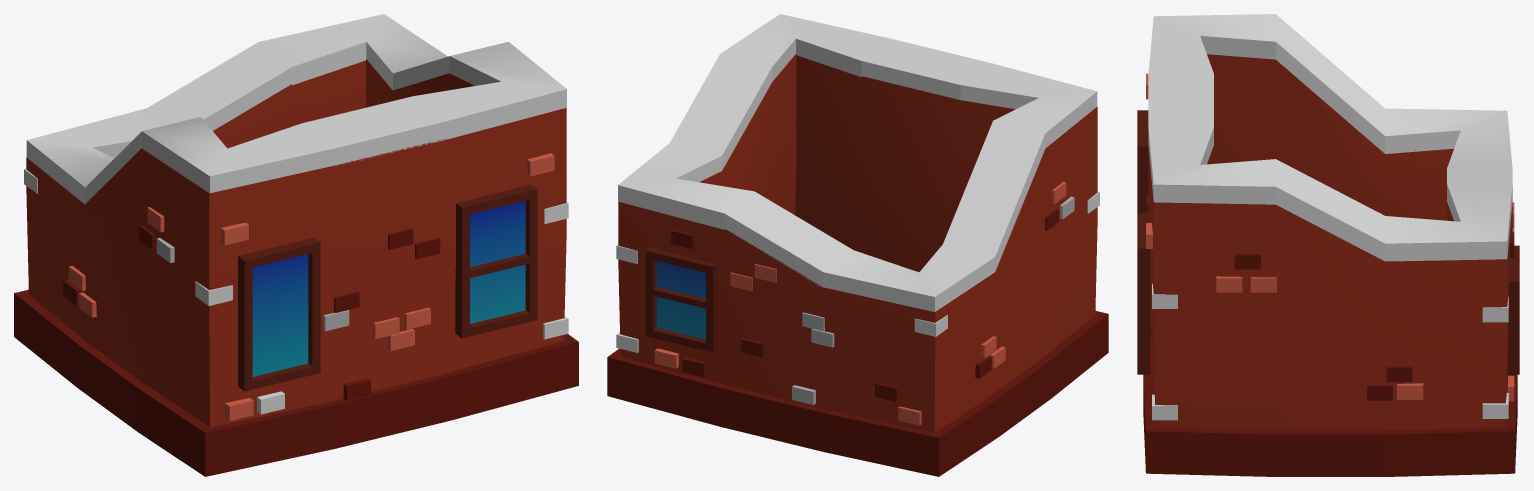
Rendered from house1.FBX.
The picture shows the model from 3 angles, left to right: view 1: azimuth 30°, elevation 25°; view 2: azimuth 150°, elevation 25°; view 3: azimuth 270°, elevation 25°; orthographic projection. The views are drawn at different scales.
Visible parts, largest first — view 1: House1; view 2: House1; view 3: House1.
Part boxes in pixels (x1,y1,x2,y2): House1: (14,14,578,476); House1: (607,14,1108,476); House1: (1137,14,1519,476).
Size of the model in its own units: 78.55 by 59.15 by 71.28.
